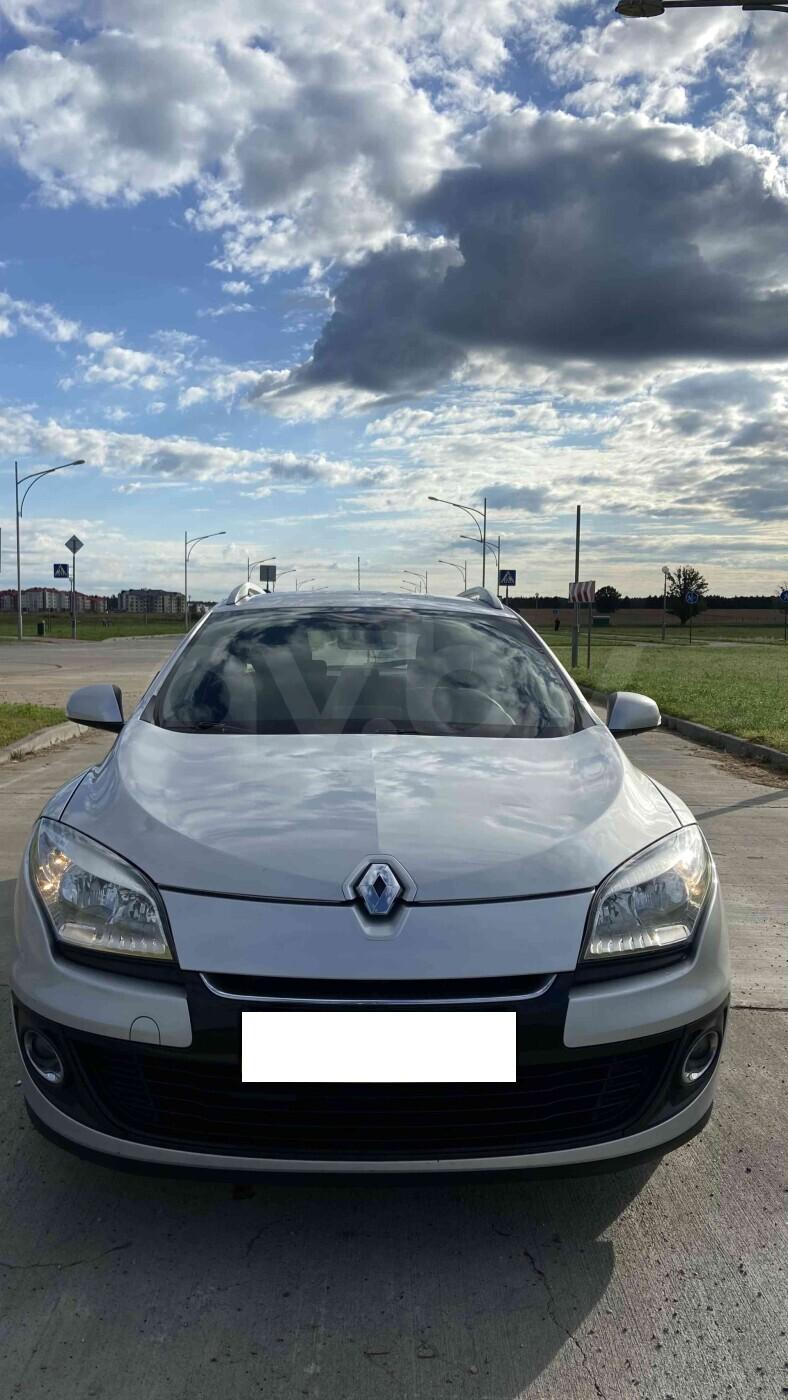Megane_2008-2014: (20, 596, 740, 1184)
